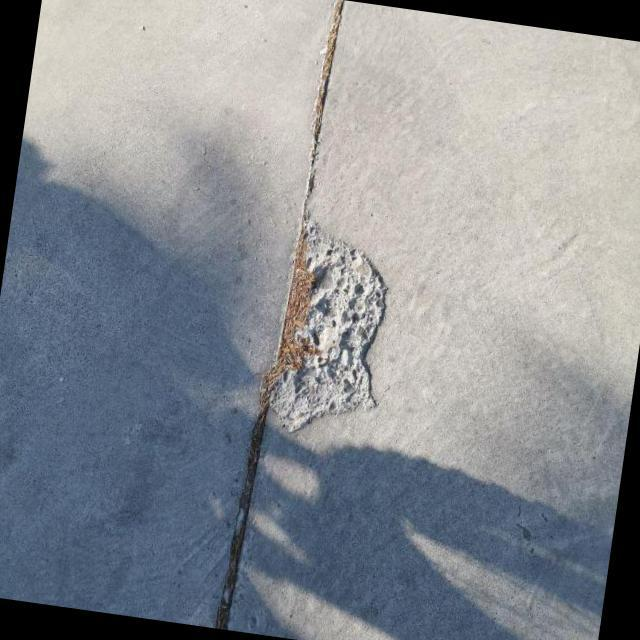Pothole: (259, 213, 386, 432)
